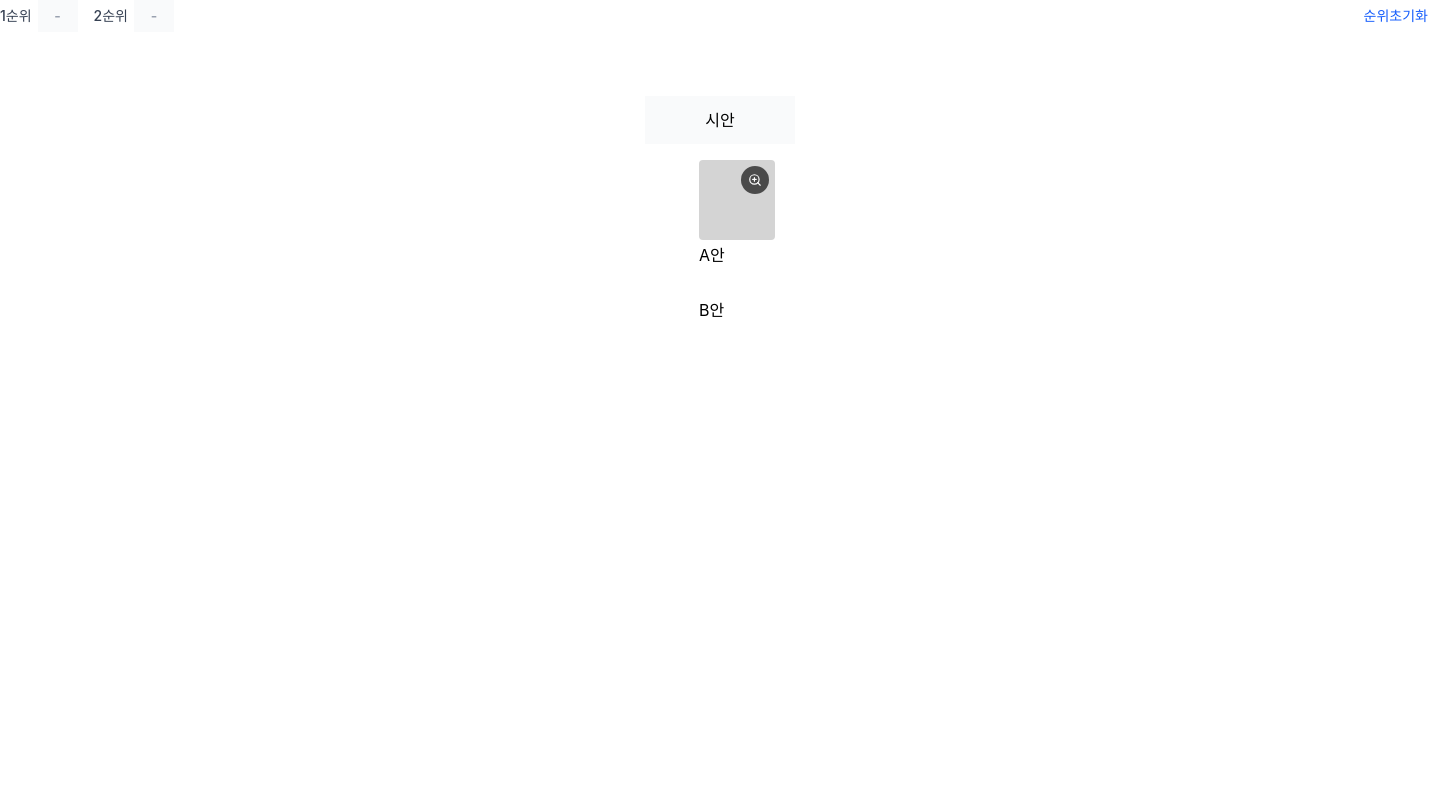
Test: 순위형 보기 이미지 — 돋보기 버튼 › 클릭 방식: 돋보기를 누르면 보기 라벨을 머리 줄로 크게 보기가 열리고 순위는 그대로다
Click the button named "A안 크게 보기". click: {"x": 755, "y": 180}
box: [741,166,769,194]
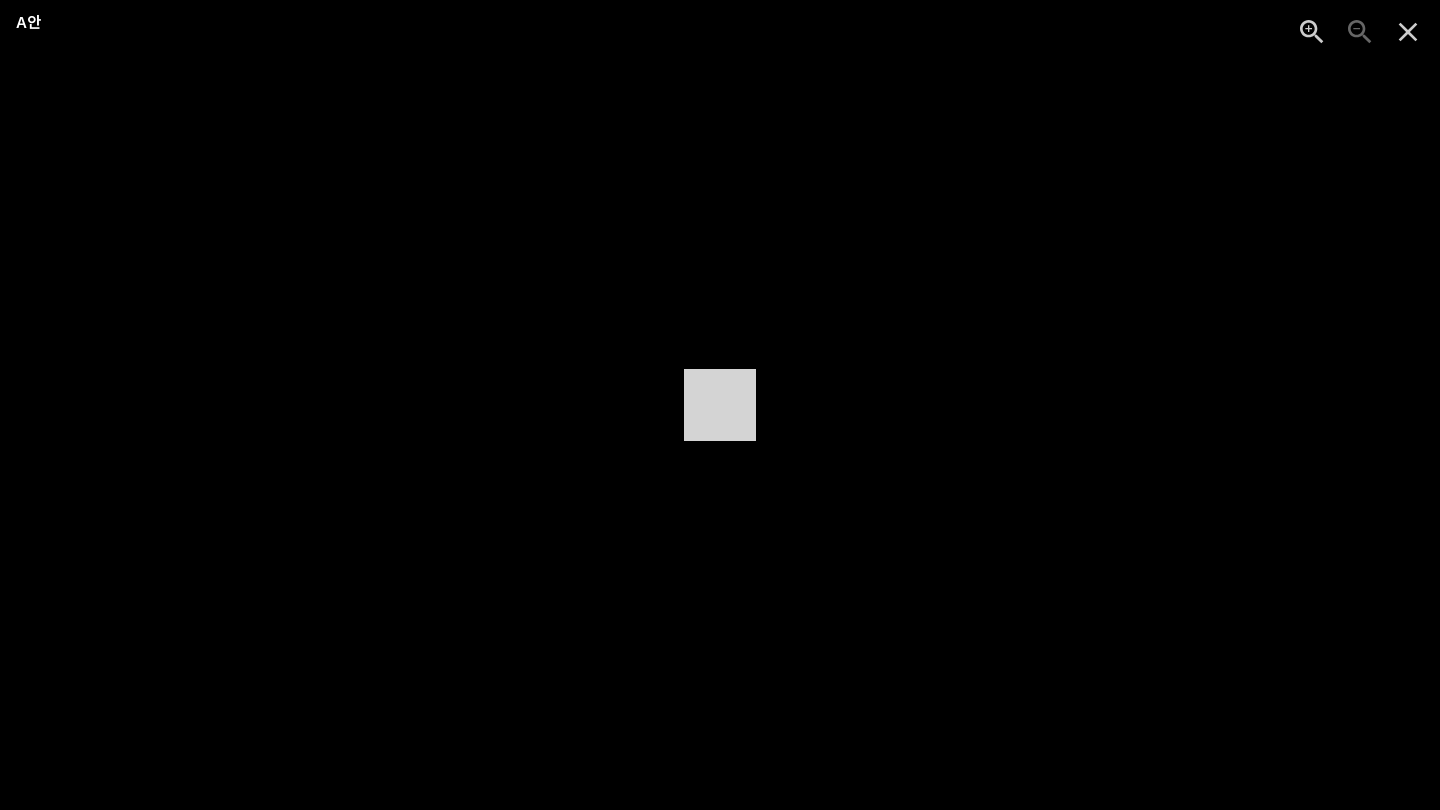
Expected: the text "A안" is shown, [16,12,41,34]
